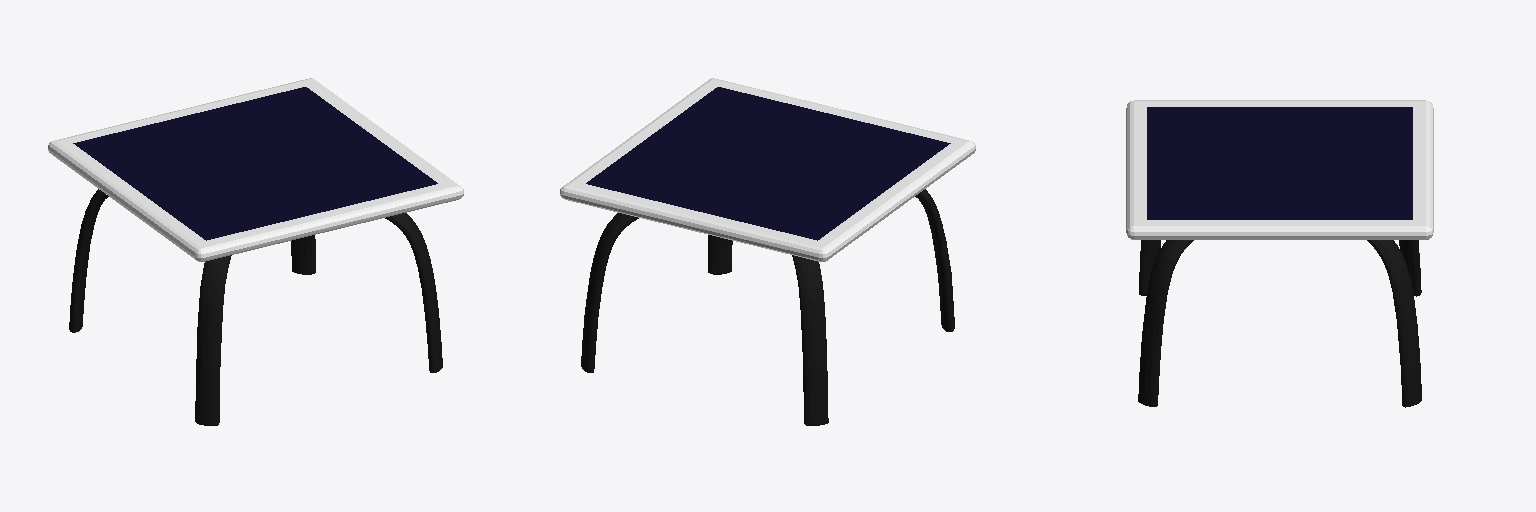
The model's file is coffee-table.obj.
The picture shows the model from 3 angles: view 1: azimuth 30°, elevation 25°; view 2: azimuth 150°, elevation 25°; view 3: azimuth 270°, elevation 25°; orthographic projection.
Parts seen in each view (by area): view 1: Coffee_ta0, Object001; view 2: Coffee_ta0, Object001; view 3: Coffee_ta0, Object001.
Part boxes in pixels (x1,y1,x2,y2): Coffee_ta0: (48,78,463,261); Object001: (69,189,442,425); Coffee_ta0: (560,78,975,261); Object001: (581,189,954,425); Coffee_ta0: (1126,100,1433,239); Object001: (1138,240,1421,407).
Size of the model in its own units: 0.5721 by 0.3761 by 0.5665.